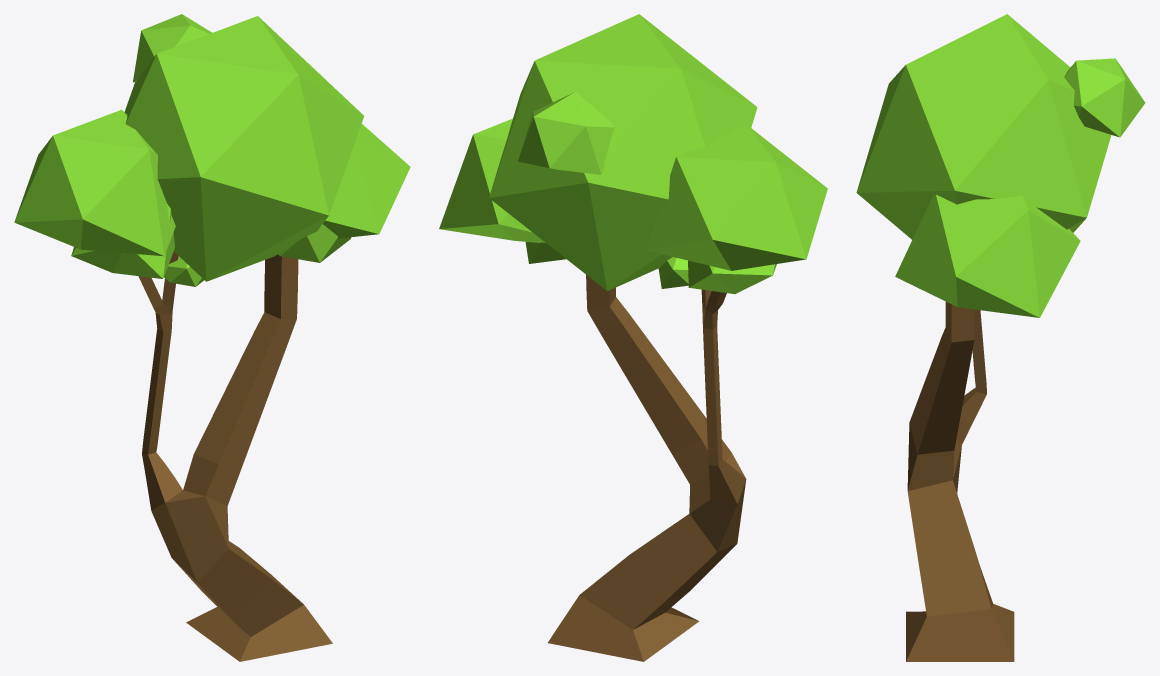
Rendered from pohon.fbx.
3 renders of one model, left to right at view 1: azimuth 30°, elevation 25°; view 2: azimuth 150°, elevation 25°; view 3: azimuth 270°, elevation 25°, orthographic. The views are drawn at different scales.
Visible parts, largest first — view 1: Icosphere.012, Cube.003, Icosphere.013, Icosphere.014, Icosphere.015, Icosphere.016, Icosphere.017, Icosphere.018; view 2: Icosphere.012, Cube.003, Icosphere.013, Icosphere.015, Icosphere.014, Icosphere.016, Icosphere.018, Icosphere.017; view 3: Icosphere.012, Cube.003, Icosphere.014, Icosphere.015.
Part boxes in pixels (bbox=[...]): Icosphere.012: bbox=[124, 16, 363, 281]; Cube.003: bbox=[138, 251, 332, 661]; Icosphere.013: bbox=[14, 109, 175, 256]; Icosphere.014: bbox=[322, 124, 410, 238]; Icosphere.015: bbox=[133, 14, 212, 82]; Icosphere.016: bbox=[71, 204, 174, 278]; Icosphere.017: bbox=[278, 224, 351, 262]; Icosphere.018: bbox=[164, 256, 203, 286]; Icosphere.012: bbox=[489, 14, 757, 290]; Cube.003: bbox=[548, 275, 746, 661]; Icosphere.013: bbox=[645, 125, 827, 270]; Icosphere.015: bbox=[518, 91, 614, 174]; Icosphere.014: bbox=[439, 118, 545, 242]; Icosphere.016: bbox=[688, 260, 776, 294]; Icosphere.018: bbox=[658, 257, 688, 288]; Icosphere.017: bbox=[525, 242, 566, 263]; Icosphere.012: bbox=[856, 14, 1111, 239]; Cube.003: bbox=[906, 302, 1014, 661]; Icosphere.014: bbox=[895, 194, 1080, 317]; Icosphere.015: bbox=[1064, 58, 1145, 137].
Size of the model in its own units: 283 by 438 by 196.
